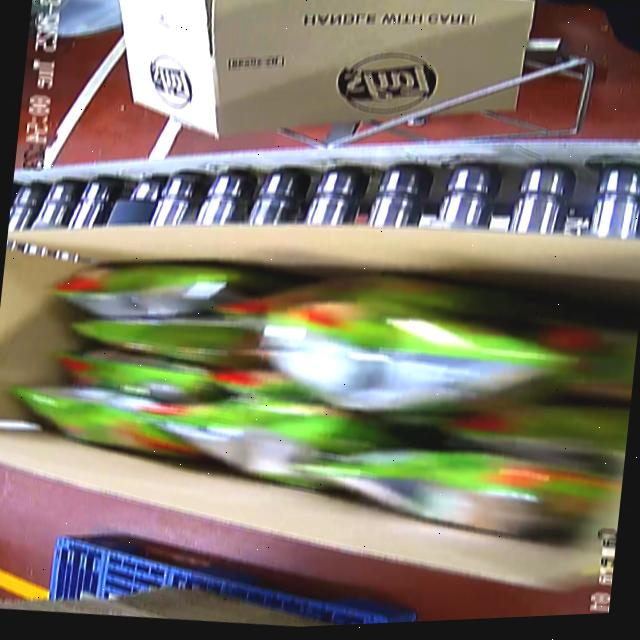YOGURT_HERB: (0, 215, 640, 575)
